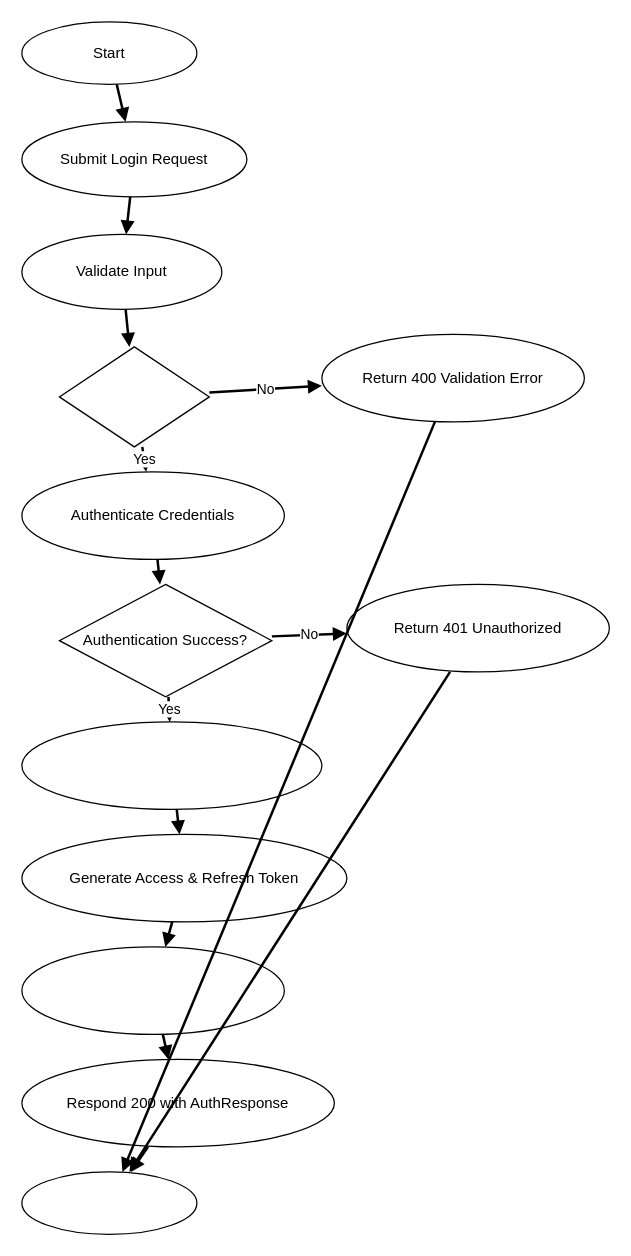
Image size: 631x1256. Some labels were removed from this diagram. Each missing label, with the centre of its shape:
"End" goes at (109,1202).
"Load User & Update Last Login" goes at (171,765).
"Persist Refresh Token" goes at (152,990).
"Valid?" goes at (133,396).
